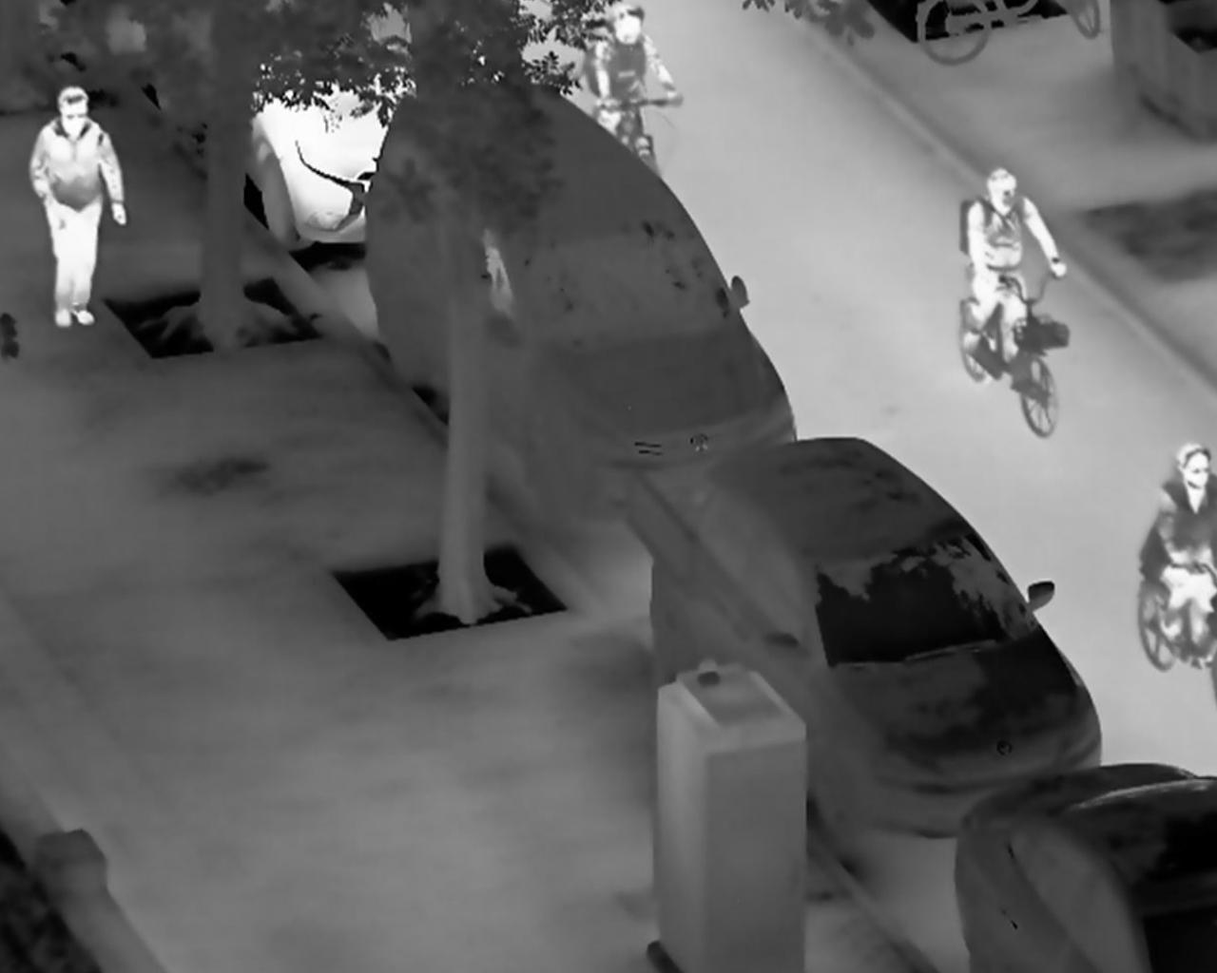person: (27, 86, 134, 330), (959, 163, 1071, 368), (579, 4, 683, 175), (1154, 439, 1217, 672)
